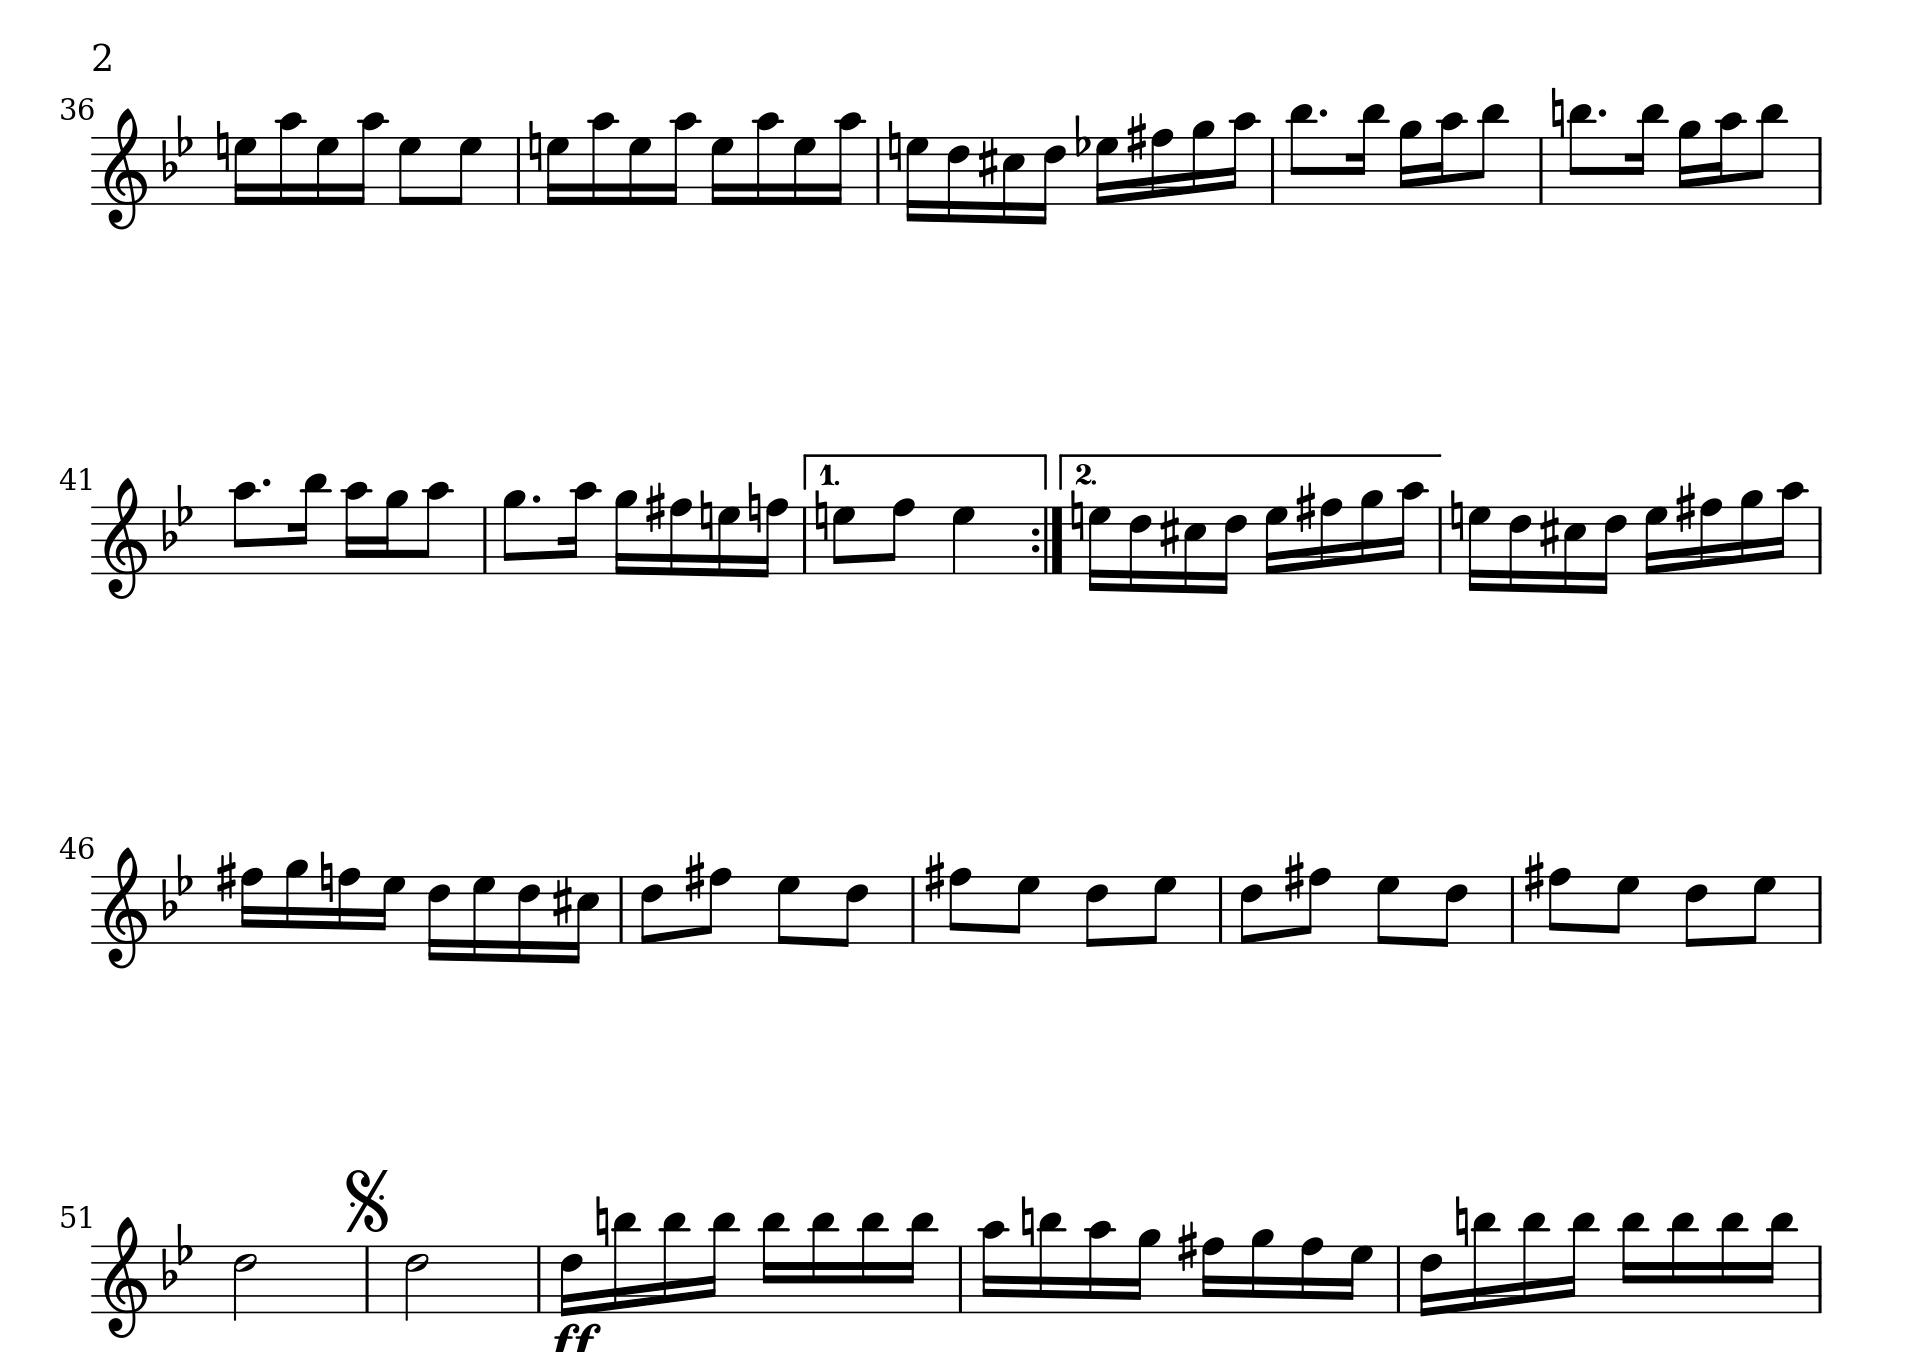1: (78, 1201, 94, 1231), (78, 465, 94, 492)
16_10: (560, 478, 598, 577), (664, 113, 701, 206), (1224, 110, 1260, 206), (1773, 480, 1808, 577), (829, 111, 865, 206), (1393, 480, 1426, 577), (353, 111, 386, 206), (1432, 110, 1464, 206), (1712, 110, 1744, 206), (1085, 1217, 1115, 1315), (342, 480, 372, 577), (979, 1219, 1008, 1315), (588, 111, 617, 206), (753, 111, 783, 206), (276, 111, 304, 206)
16_11: (290, 471, 331, 577), (1347, 101, 1387, 206), (1627, 101, 1666, 206), (900, 1212, 938, 1315), (1760, 1212, 1796, 1315), (704, 1210, 739, 1315), (1562, 1210, 1597, 1315), (1616, 1210, 1649, 1315), (658, 1209, 689, 1315), (758, 1210, 788, 1315), (808, 1210, 838, 1315), (857, 1210, 888, 1315), (1668, 1210, 1698, 1315), (1717, 1210, 1748, 1315), (1518, 1209, 1548, 1315), (610, 1210, 639, 1315), (1036, 1210, 1065, 1315), (1470, 1210, 1498, 1315)
16_5: (568, 874, 601, 964), (1182, 503, 1207, 596), (1561, 503, 1586, 596), (1001, 135, 1025, 225)
16_6: (1593, 503, 1628, 596), (1031, 135, 1066, 225), (1214, 502, 1246, 596), (1507, 503, 1532, 594), (516, 874, 541, 964), (945, 135, 970, 224), (426, 874, 451, 961), (1128, 503, 1151, 593), (1418, 1244, 1442, 1318), (559, 1244, 584, 1317)
16_7: (470, 872, 496, 964), (1341, 1242, 1374, 1315), (904, 133, 929, 225), (375, 874, 407, 944), (1087, 503, 1110, 594), (1467, 503, 1491, 594), (715, 503, 742, 578), (1262, 503, 1289, 577), (1643, 503, 1669, 577), (626, 135, 652, 206), (1093, 135, 1119, 206), (315, 135, 339, 206), (544, 135, 569, 206), (710, 135, 734, 206), (791, 135, 816, 206), (233, 135, 256, 206)
16_8: (756, 497, 788, 579), (1298, 1235, 1324, 1315), (1148, 126, 1173, 206), (1200, 1235, 1224, 1315), (238, 866, 263, 945), (336, 866, 361, 945), (669, 496, 692, 578), (1320, 496, 1343, 577), (1698, 496, 1722, 577)
16_9: (1128, 1228, 1160, 1315), (377, 489, 408, 577), (1248, 1226, 1274, 1315), (1397, 119, 1423, 206), (282, 857, 309, 945), (1189, 117, 1214, 206), (1358, 487, 1382, 577), (1676, 119, 1701, 206), (1738, 487, 1761, 577), (613, 489, 636, 577)
2: (91, 41, 113, 72)
2_6: (233, 1244, 257, 1321), (404, 1244, 429, 1321)
3: (59, 95, 76, 121)
4: (59, 464, 78, 492), (59, 833, 76, 860)
4_7: (951, 505, 976, 575)
5: (59, 1201, 76, 1231)
6: (76, 95, 95, 121), (78, 833, 95, 860)
8_10: (417, 480, 451, 577), (230, 480, 259, 577)
8_11: (1473, 102, 1505, 206), (1753, 102, 1785, 206), (1287, 99, 1317, 206), (1567, 101, 1595, 206)
8_6: (835, 874, 869, 950), (1435, 874, 1467, 950), (1682, 874, 1709, 950), (639, 874, 666, 947), (1084, 874, 1109, 950), (1239, 874, 1264, 947)
8_7: (1742, 874, 1777, 947), (1143, 874, 1176, 945), (1006, 874, 1039, 945), (451, 135, 481, 206), (1608, 874, 1638, 945), (775, 874, 802, 947), (1375, 874, 1400, 947), (396, 135, 421, 206), (831, 503, 856, 574)
8_8: (882, 497, 914, 575), (701, 866, 731, 945), (1301, 865, 1330, 945), (1546, 865, 1571, 947), (946, 866, 971, 945)
8_9: (500, 489, 527, 577)
B_F: (159, 1219, 195, 1289), (161, 481, 195, 552), (161, 113, 195, 181), (161, 852, 195, 920)
Flat: (1072, 113, 1090, 159)
Gclef: (101, 105, 148, 230), (101, 476, 148, 600), (101, 844, 148, 969), (102, 1214, 146, 1339)
Natural: (887, 119, 903, 176), (594, 1194, 610, 1251), (1020, 1194, 1036, 1251), (1454, 1194, 1470, 1251), (527, 120, 543, 176), (214, 119, 230, 173), (698, 490, 714, 544), (746, 481, 762, 536), (317, 850, 334, 904), (1450, 489, 1464, 544), (1551, 86, 1565, 140), (813, 492, 828, 544), (1069, 492, 1084, 544)
Prima_volta: (797, 452, 1050, 489)
RightRepeatSign: (1030, 505, 1065, 574)
Seconda_volta: (1055, 454, 1450, 492)
Segno: (339, 1165, 392, 1233)
Sharp: (1537, 505, 1561, 559), (550, 875, 573, 928), (215, 849, 237, 904), (977, 136, 999, 190), (1125, 111, 1147, 165), (644, 480, 666, 534), (1159, 505, 1181, 559), (1295, 480, 1317, 534), (1674, 480, 1695, 534), (683, 849, 705, 903), (923, 850, 945, 904), (1281, 849, 1303, 903), (1521, 850, 1543, 904), (1176, 1219, 1198, 1273)
Single_barline: (796, 506, 813, 574), (530, 1245, 547, 1312), (475, 506, 493, 572), (358, 1247, 376, 1312), (1390, 1247, 1407, 1312), (1813, 506, 1829, 574), (1813, 1245, 1829, 1312), (511, 138, 527, 203), (1813, 138, 1829, 203), (870, 138, 887, 203), (1265, 138, 1281, 203), (613, 876, 629, 942), (1213, 876, 1229, 942), (1813, 876, 1829, 942), (906, 876, 922, 942), (952, 1247, 968, 1312), (1533, 138, 1549, 202), (1434, 506, 1448, 574), (1505, 876, 1520, 942)
dot: (1595, 105, 1609, 120), (1317, 105, 1330, 120), (259, 476, 274, 489), (530, 492, 543, 506)
pp: (552, 1317, 601, 1352)
